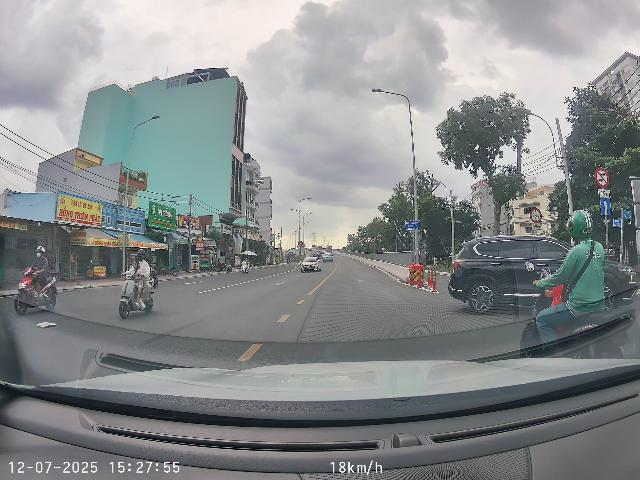102-cam-di-nguoc-chieu: (298, 241, 303, 246)
107-cam-oto-khach-va-oto-tai: (594, 168, 609, 188)
